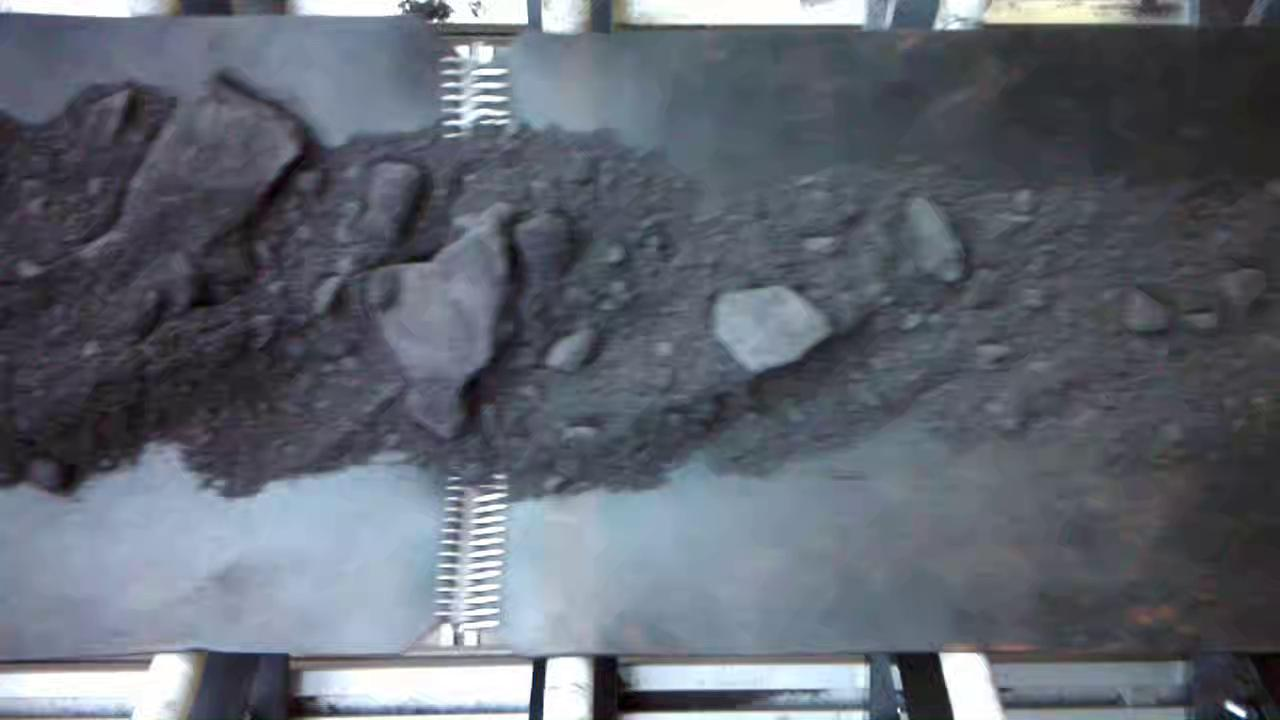conveyor: (13, 57, 1274, 630)
